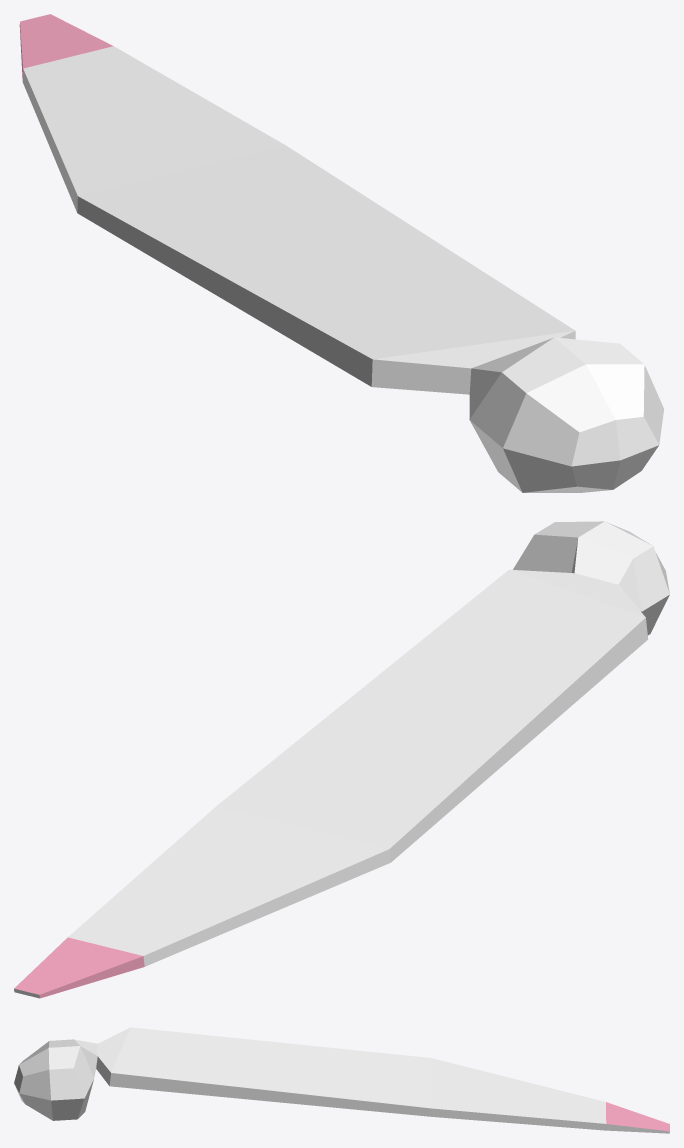
Rendered from WingL.fbx.
The picture shows the model from 3 angles, top to bottom: view 1: azimuth 30°, elevation 25°; view 2: azimuth 150°, elevation 25°; view 3: azimuth 270°, elevation 25°; orthographic projection. The views are drawn at different scales.
Visible parts, largest first — view 1: WingL; view 2: WingL; view 3: WingL.
Boxes of the visible parts, x1=… form: WingL: x1=19, y1=14, x2=663, y2=492; WingL: x1=14, y1=521, x2=669, y2=998; WingL: x1=14, y1=1027, x2=669, y2=1133.
Size of the model in its own units: 13.02 by 7.72 by 67.56.
